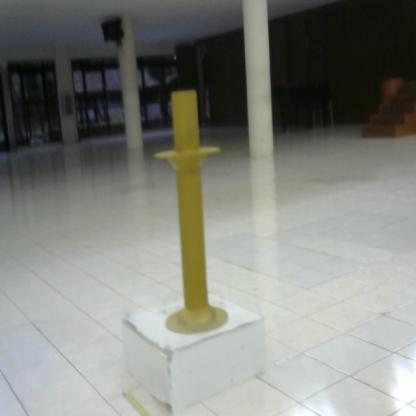pole: (149, 82, 240, 344)
